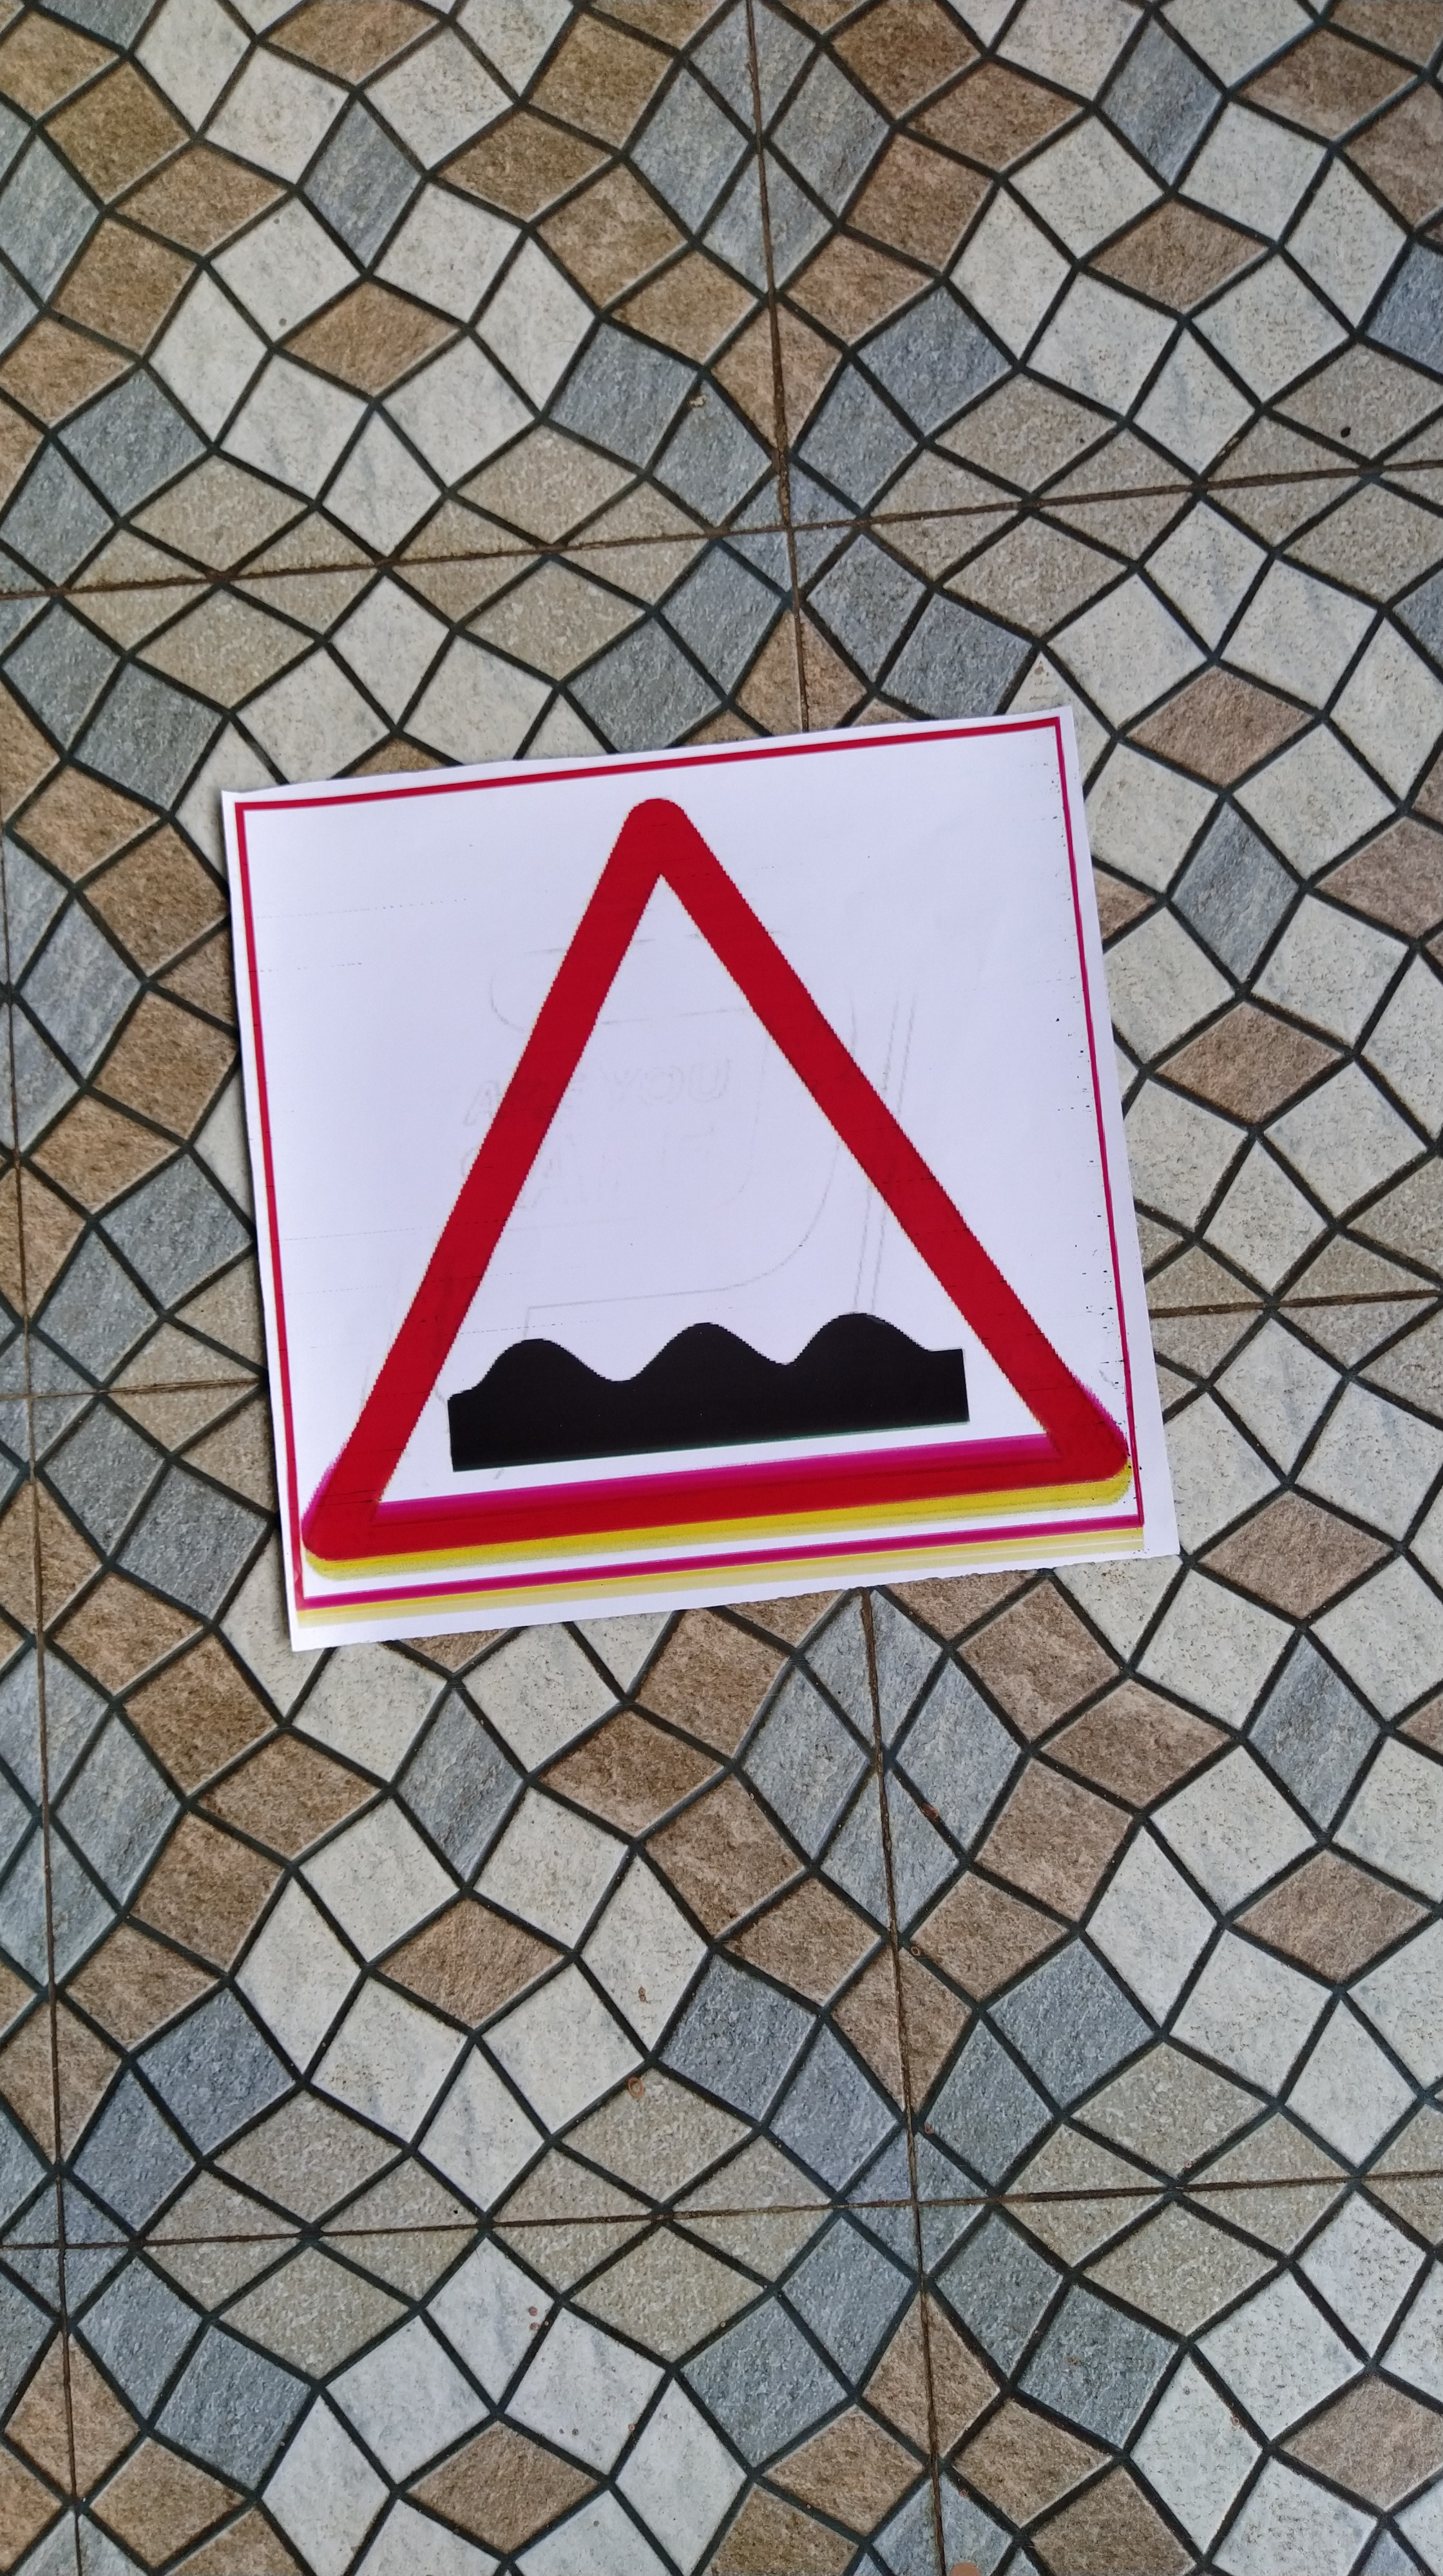speed breaker: (220, 755, 1161, 1545)
